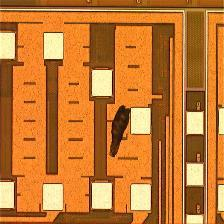PARTICLE: (105, 103, 134, 162)
